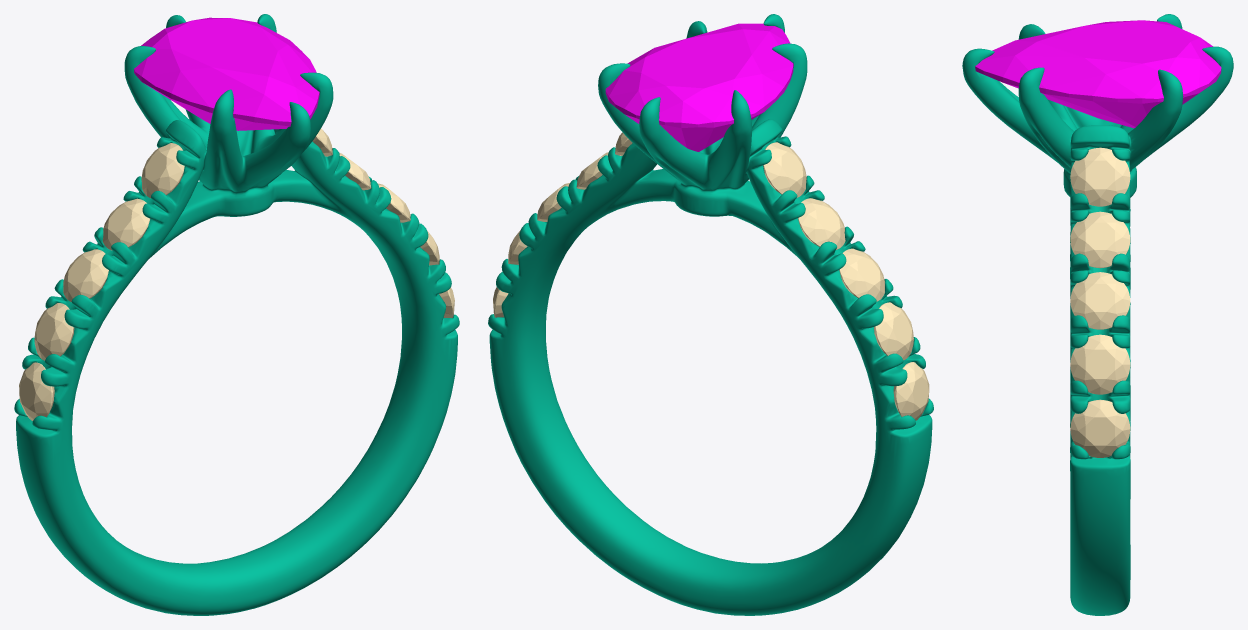
File: BE1D1025_PE_200ct_RENDER.glb
3 renders of one model, left to right at view 1: azimuth 30°, elevation 25°; view 2: azimuth 150°, elevation 25°; view 3: azimuth 270°, elevation 25°, orthographic.
Parts seen in each view (by area): view 1: Metal 01, CS_Diamond_Pear, Diamond_Round_Gem_SH.007, Diamond_Round_Gem_SH.005, Diamond_Round_Gem_SH.006, Diamond_Round_Gem_SH.008, Diamond_Round_Gem_SH.009; view 2: Metal 01, CS_Diamond_Pear, Diamond_Round_Gem_SH.007, Diamond_Round_Gem_SH.005, Diamond_Round_Gem_SH.006, Diamond_Round_Gem_SH.008, Diamond_Round_Gem_SH.009; view 3: Metal 01, CS_Diamond_Pear, Diamond_Round_Gem_SH.001, Diamond_Round_Gem_SH.004, Diamond_Round_Gem_SH, Diamond_Round_Gem_SH.002, Diamond_Round_Gem_SH.003.
Part boxes in pixels (x1=…): Metal 01: x1=14, y1=14, x2=459, y2=615; CS_Diamond_Pear: x1=134, y1=17, x2=319, y2=130; Diamond_Round_Gem_SH.007: x1=63, y1=249, x2=108, y2=301; Diamond_Round_Gem_SH.005: x1=141, y1=143, x2=184, y2=198; Diamond_Round_Gem_SH.006: x1=102, y1=198, x2=149, y2=250; Diamond_Round_Gem_SH.008: x1=34, y1=303, x2=74, y2=360; Diamond_Round_Gem_SH.009: x1=19, y1=362, x2=54, y2=420; Metal 01: x1=488, y1=14, x2=933, y2=615; CS_Diamond_Pear: x1=605, y1=23, x2=793, y2=151; Diamond_Round_Gem_SH.007: x1=839, y1=248, x2=884, y2=301; Diamond_Round_Gem_SH.005: x1=763, y1=142, x2=806, y2=197; Diamond_Round_Gem_SH.006: x1=798, y1=198, x2=845, y2=249; Diamond_Round_Gem_SH.008: x1=874, y1=302, x2=913, y2=360; Diamond_Round_Gem_SH.009: x1=893, y1=362, x2=929, y2=420; Metal 01: x1=962, y1=14, x2=1233, y2=615; CS_Diamond_Pear: x1=975, y1=20, x2=1221, y2=128; Diamond_Round_Gem_SH.001: x1=1070, y1=334, x2=1130, y2=394; Diamond_Round_Gem_SH.004: x1=1070, y1=147, x2=1130, y2=206; Diamond_Round_Gem_SH: x1=1070, y1=399, x2=1130, y2=457; Diamond_Round_Gem_SH.002: x1=1070, y1=272, x2=1130, y2=329; Diamond_Round_Gem_SH.003: x1=1070, y1=211, x2=1130, y2=268.
Size of the model in its own units: 20.52 by 25.39 by 11.32.
